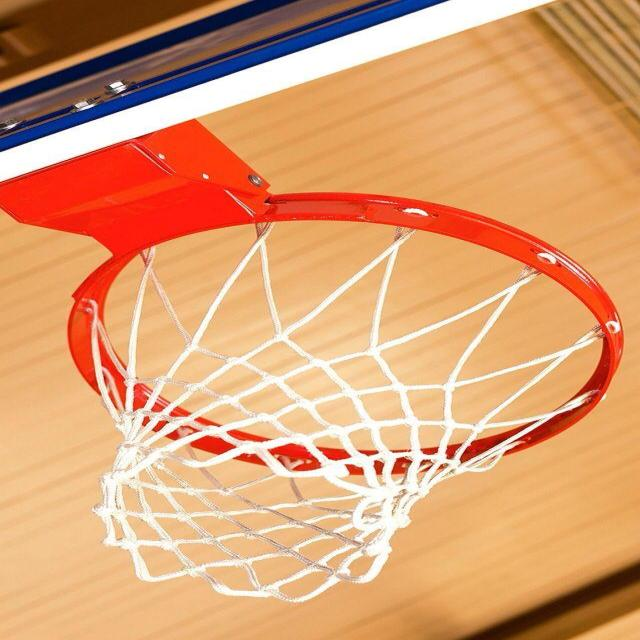hoop: (0, 182, 640, 602)
